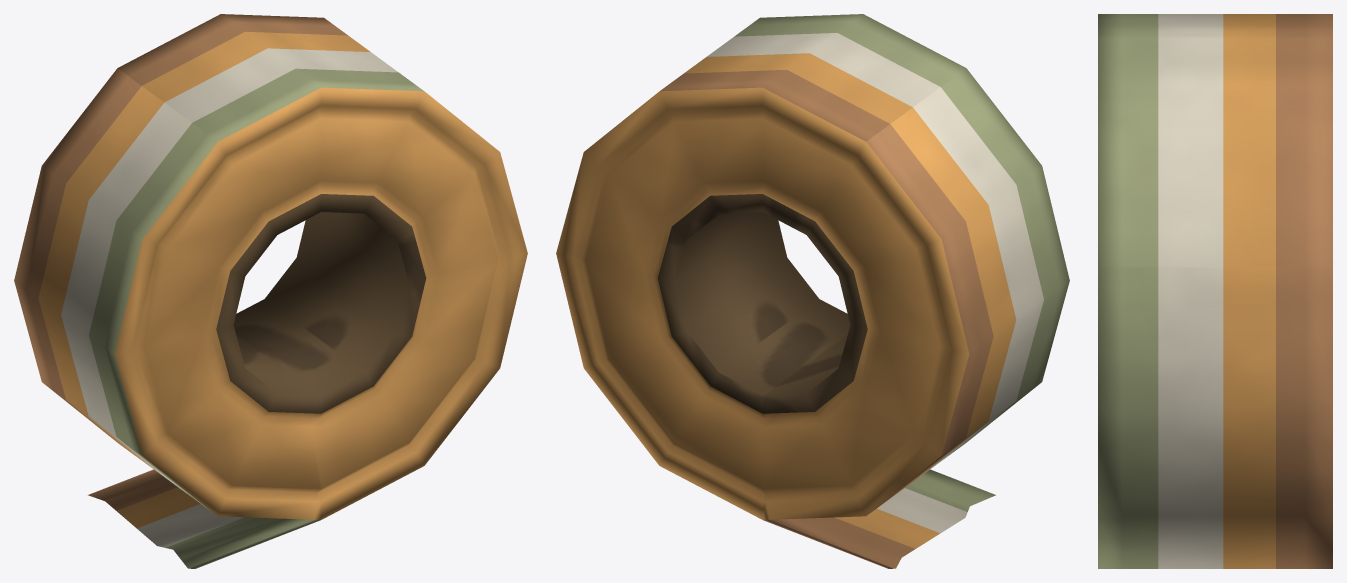
Rendered from item-pumpkinpatchtape.glb.
The picture shows the model from 3 angles, left to right: view 1: azimuth 30°, elevation 25°; view 2: azimuth 150°, elevation 25°; view 3: azimuth 270°, elevation 25°; orthographic projection. The views are drawn at different scales.
Size of the model in its own units: 2 by 2.08 by 0.8425.
Materials: 6 (6 with a texture image).
